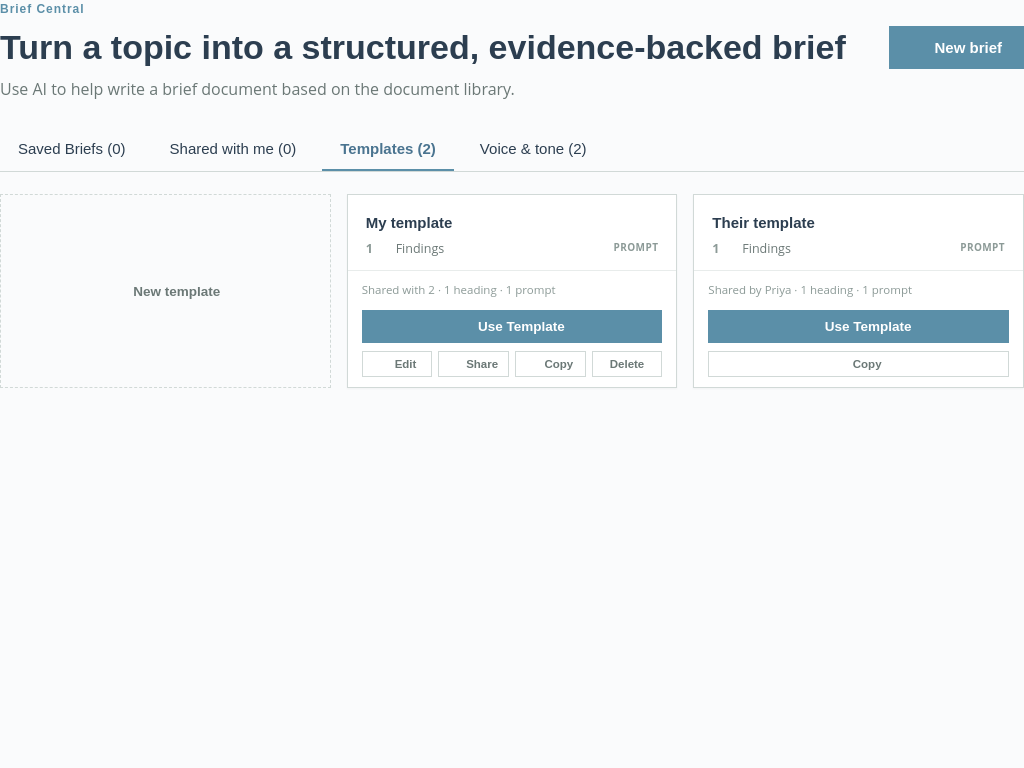
Test case: Brief Central library cards › Edit opens the editor on the template, and Share opens its Share dialog
The image size is (1024, 768).
Click the button "Edit": (397, 364) 362,351 -> 432,377
(page scrolled)
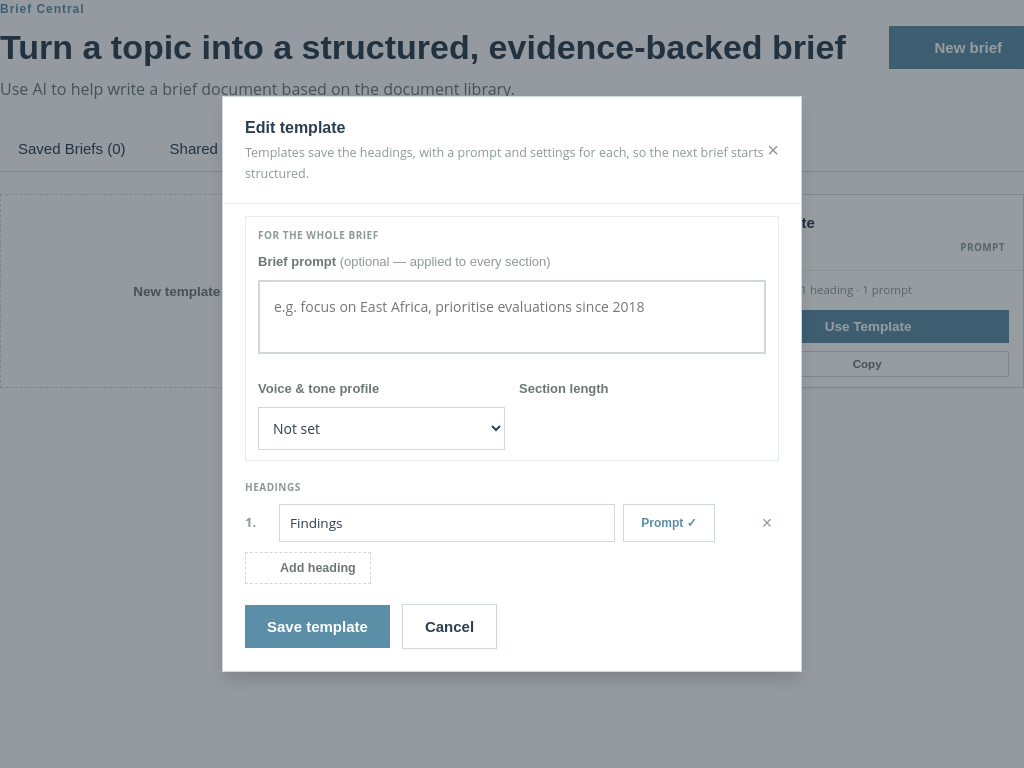
Result: the text "Edit template" is shown at 245,119 -> 346,136
Click the button "Cancel": (450, 626) 402,604 -> 497,649
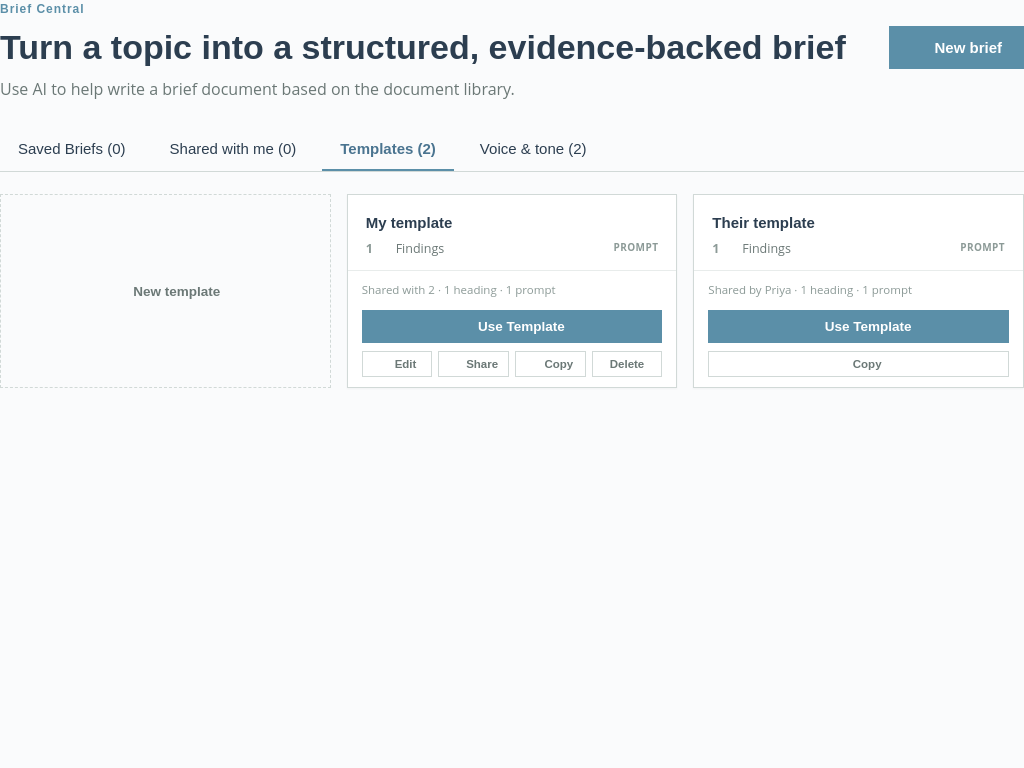
Click the button "Share": (474, 364) 438,351 -> 509,377
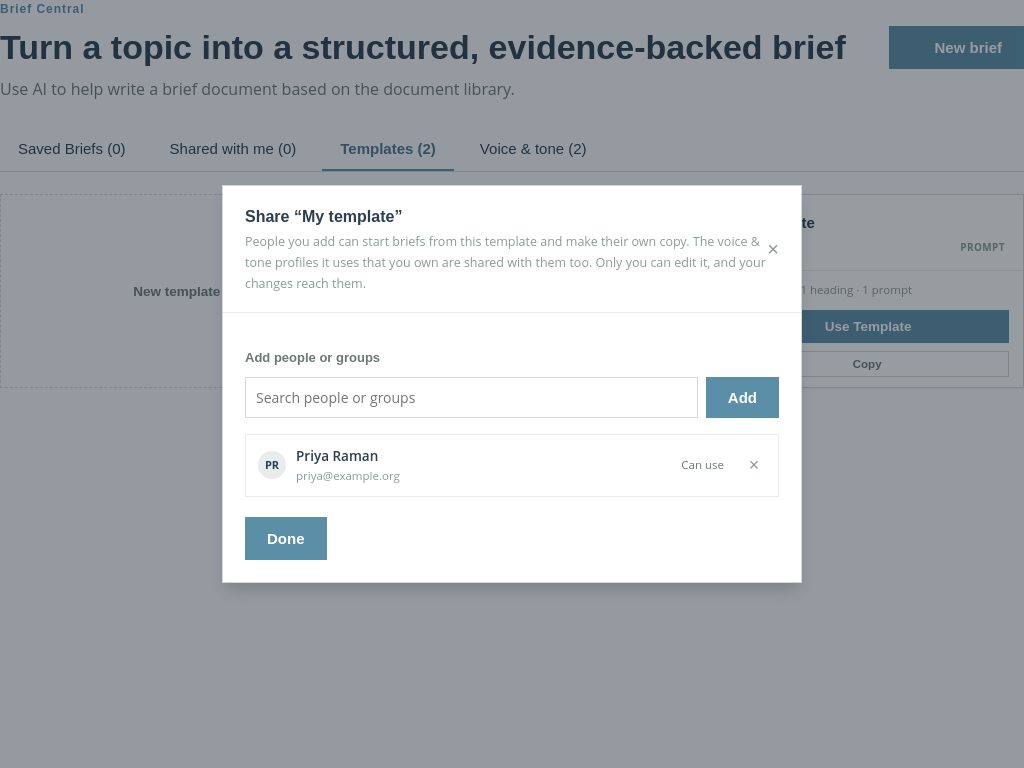
Result: the text "Share “My template”" is shown at 245,208 -> 402,225
